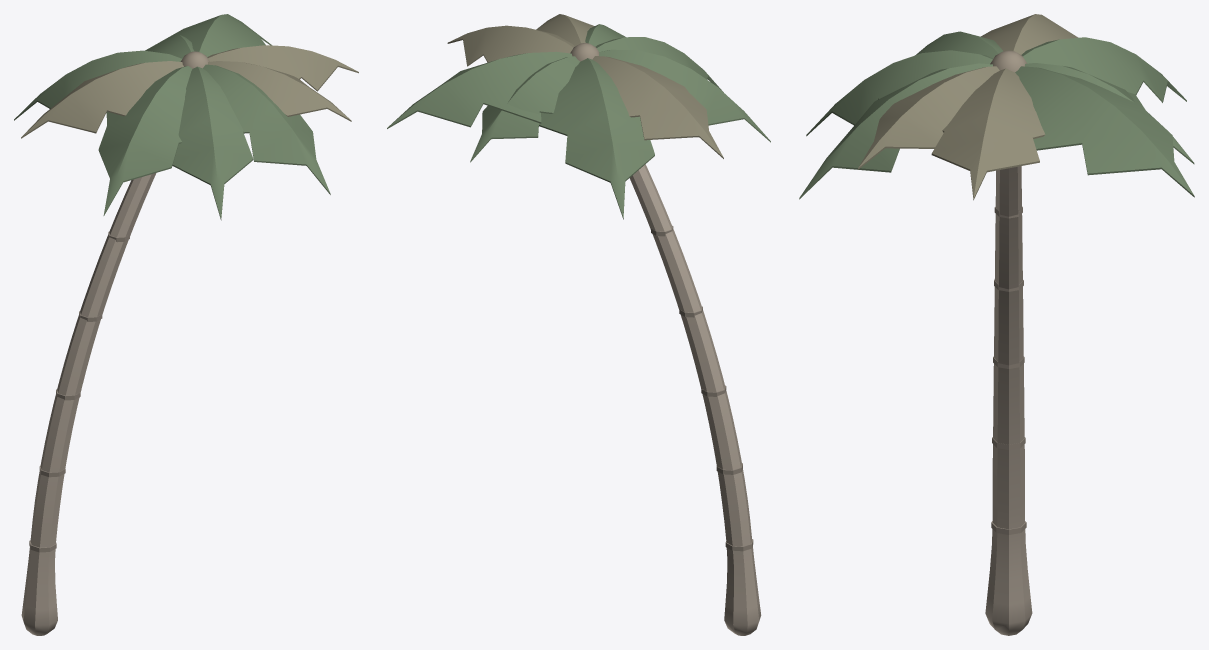
The model's file is palm_b.gltf.
3 renders of one model, left to right at view 1: azimuth 30°, elevation 25°; view 2: azimuth 150°, elevation 25°; view 3: azimuth 270°, elevation 25°, orthographic. The views are drawn at different scales.
Visible parts, largest first — view 1: Body; view 2: Body; view 3: Body.
Part boxes in pixels (x1,y1,x2,y2): Body: (14, 14, 358, 635); Body: (387, 14, 770, 635); Body: (799, 14, 1194, 635).
Size of the model in its own units: 6.28 by 10.13 by 5.38.
